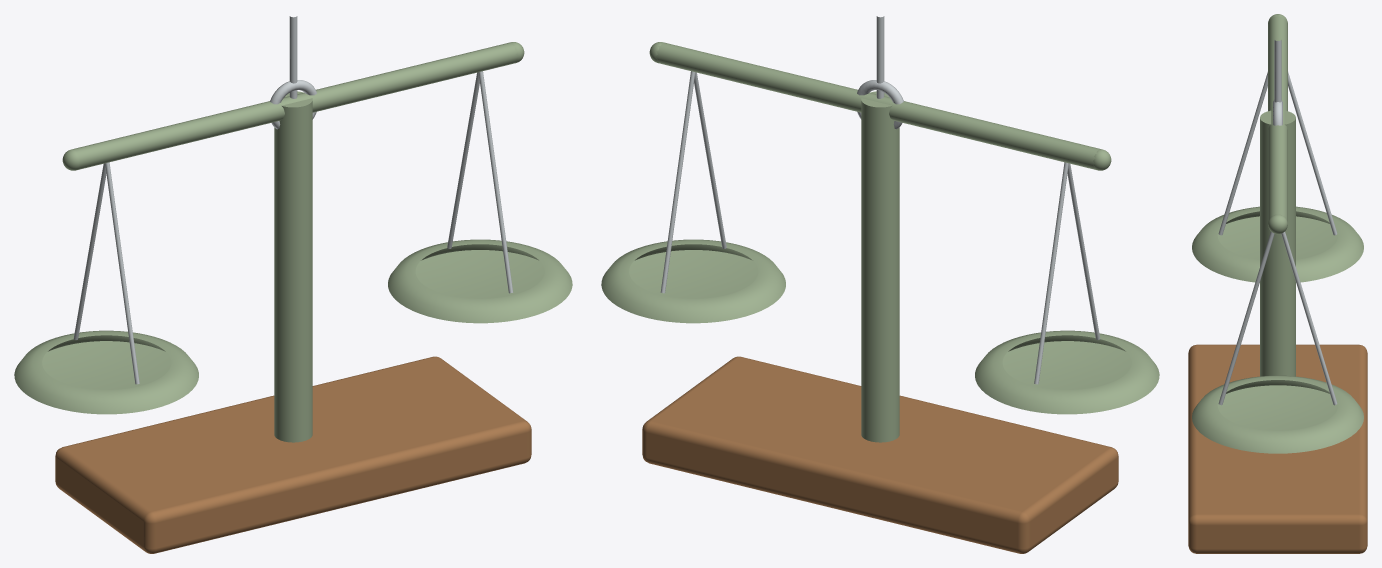
Rendered from weighing-scale-puzzle-plinth.glb.
3 views of the same model, side by side, from view 1: azimuth 30°, elevation 25°; view 2: azimuth 150°, elevation 25°; view 3: azimuth 270°, elevation 25° (orthographic). The views are drawn at different scales.
Parts seen in each view (by area): view 1: balance-scale; view 2: balance-scale; view 3: balance-scale.
Part boxes in pixels (x1,y1,x2,y2): balance-scale: (14,16,572,553); balance-scale: (601,16,1159,553); balance-scale: (1188,14,1367,553).
Size of the model in its own units: 0.8 by 0.66 by 0.25.
